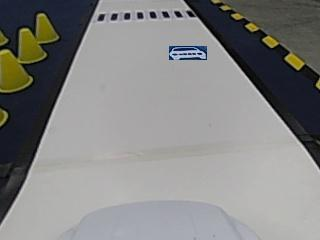crosswalk: (95, 9, 196, 21)
